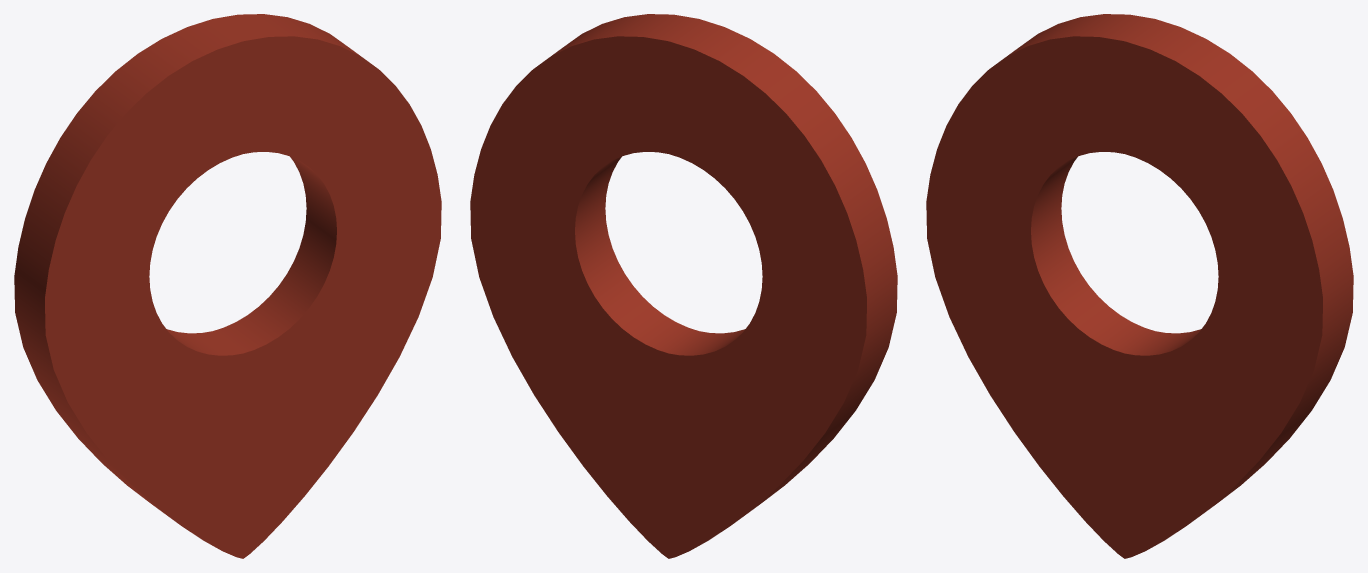
File: pin.glb
3 views of the same model, side by side, from view 1: azimuth 30°, elevation 25°; view 2: azimuth 150°, elevation 25°; view 3: azimuth 330°, elevation 25° (orthographic).
Parts seen in each view (by area): view 1: pin; view 2: pin; view 3: pin.
Part boxes in pixels (x1,y1,x2,y2): pin: (14, 14, 441, 558); pin: (470, 14, 897, 558); pin: (926, 14, 1353, 558).
Bounding box in the file's own units: 1.72 × 2.14 × 0.2285.
